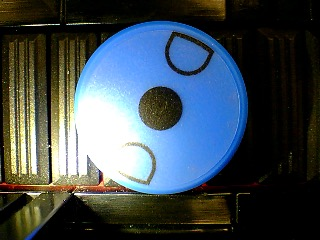BOHOMIPO2: (72, 20, 249, 195)
